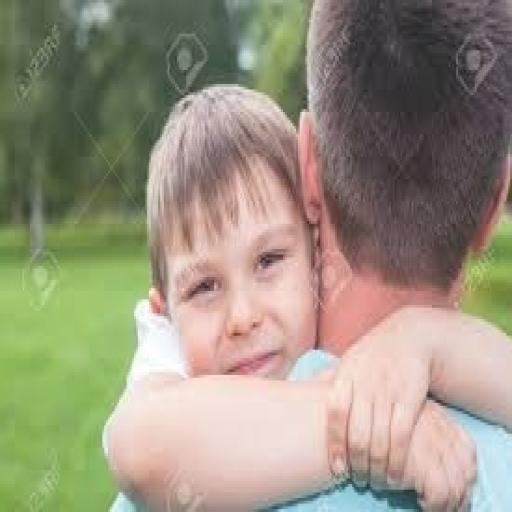hugging: (99, 0, 510, 509)
